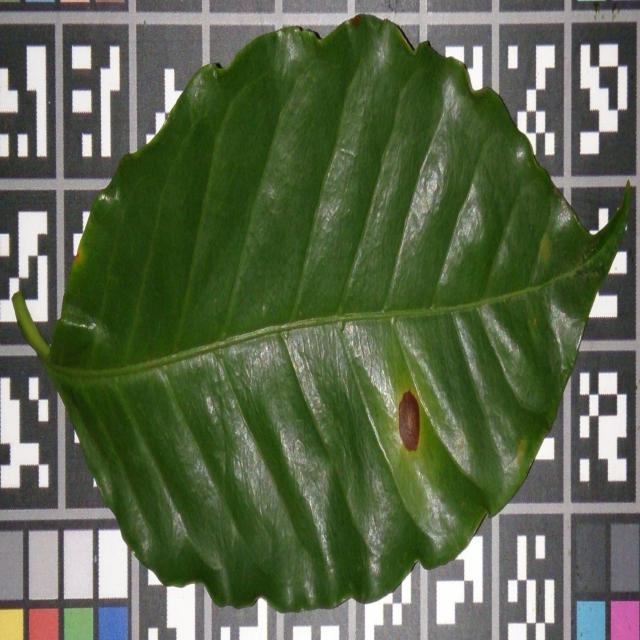Enfermedad-Mancha-de-hierro: (43, 15, 628, 615)
